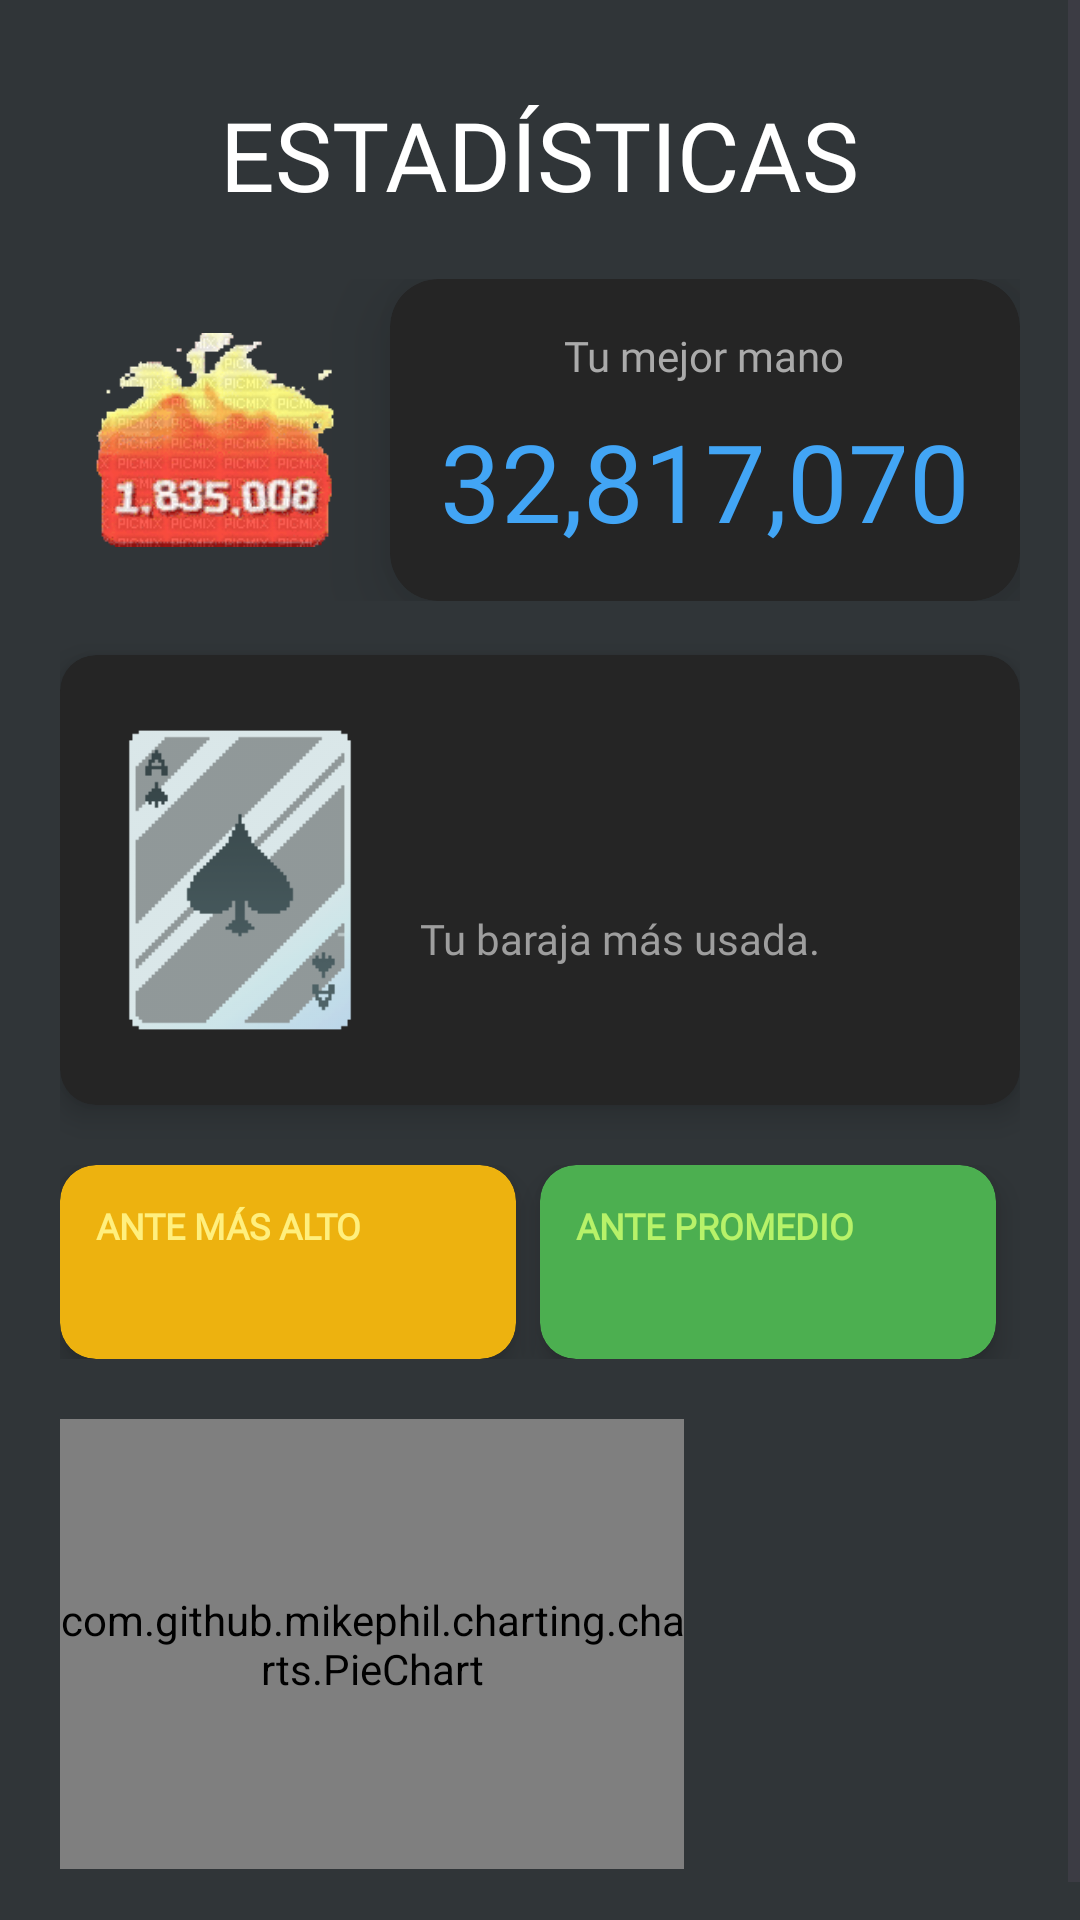

Icon bounding boxes for this 1080w x 1920h phone screenshot, format (x1, y1, x2, y2):
glass card: (129, 730, 351, 1030)
